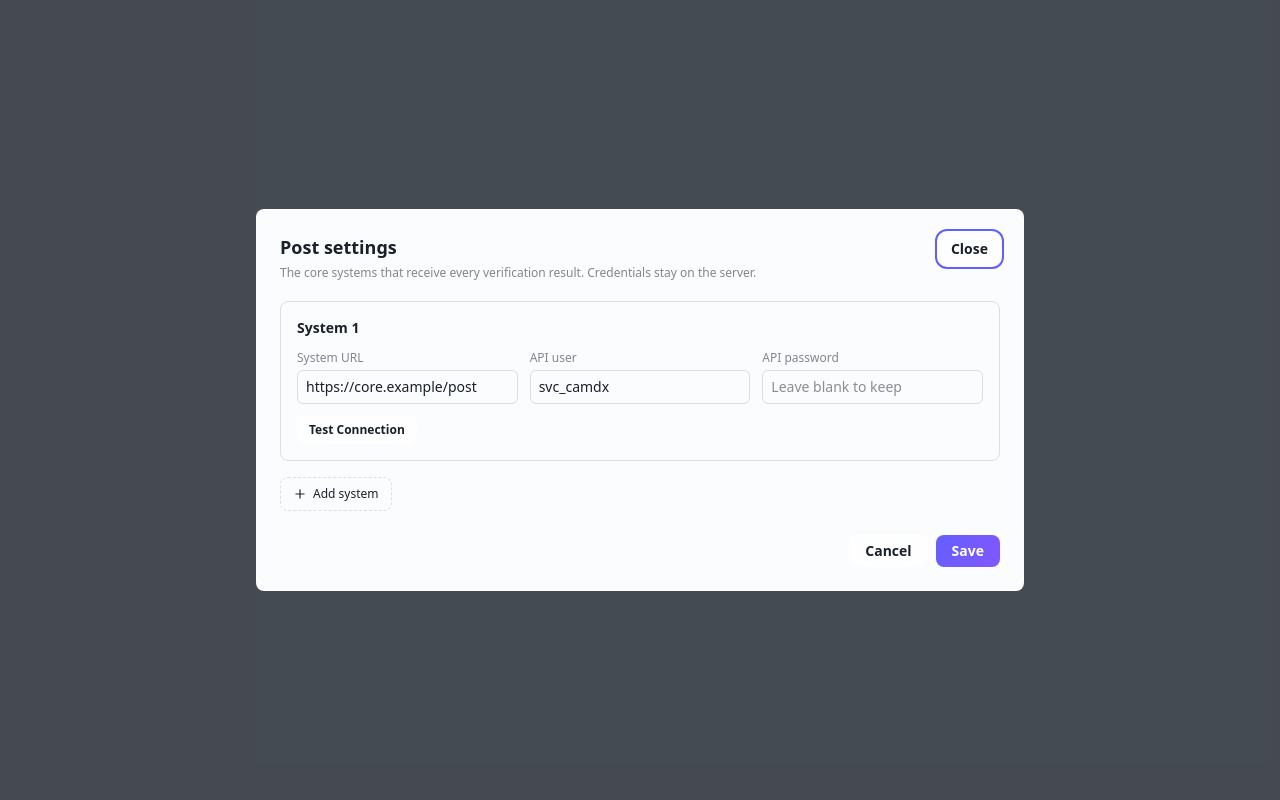
test connection (D22) › reads Testing… and takes no second probe while one is in flight
The width and height of the screenshot is (1280, 800).
Expected: the field showing "https://core.example/post" is shown, [297,370,518,404]
Click the button "Test Connection".
click(357, 430)  # box [297,416,417,444]
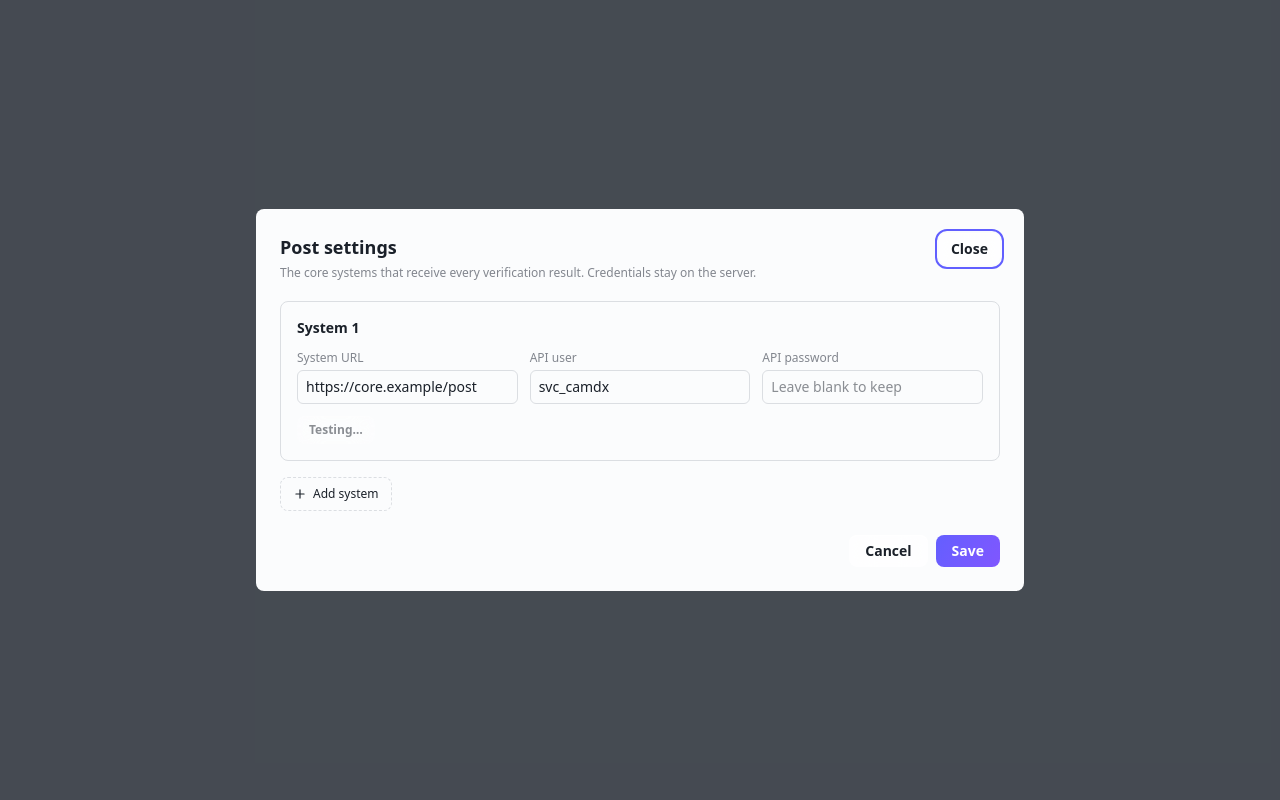
Result: the button "Testing…" is disabled
Click the button "Testing…".
click(336, 430)  # box [297,416,375,444]
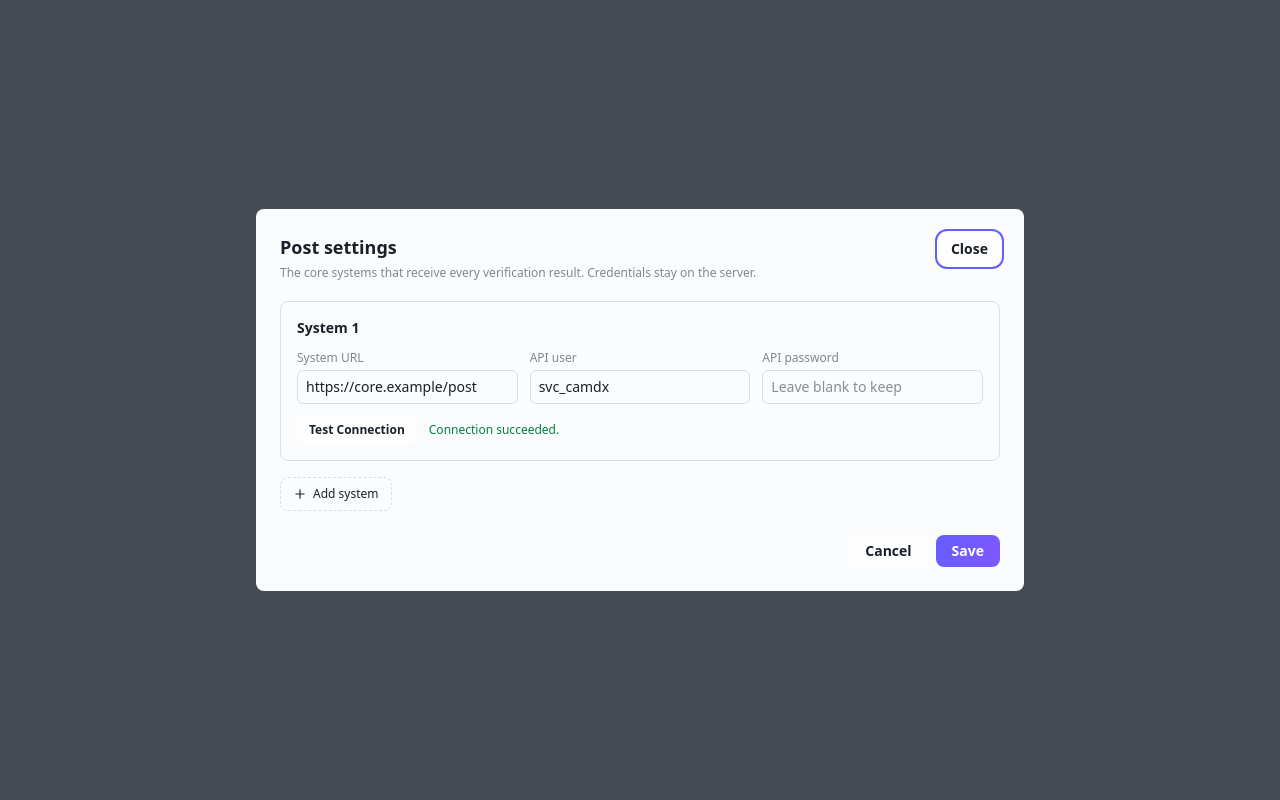
Result: the text "Connection succeeded." is shown at [429,422,559,438]
Result: the button "Test Connection" is enabled at [297,416,417,444]
